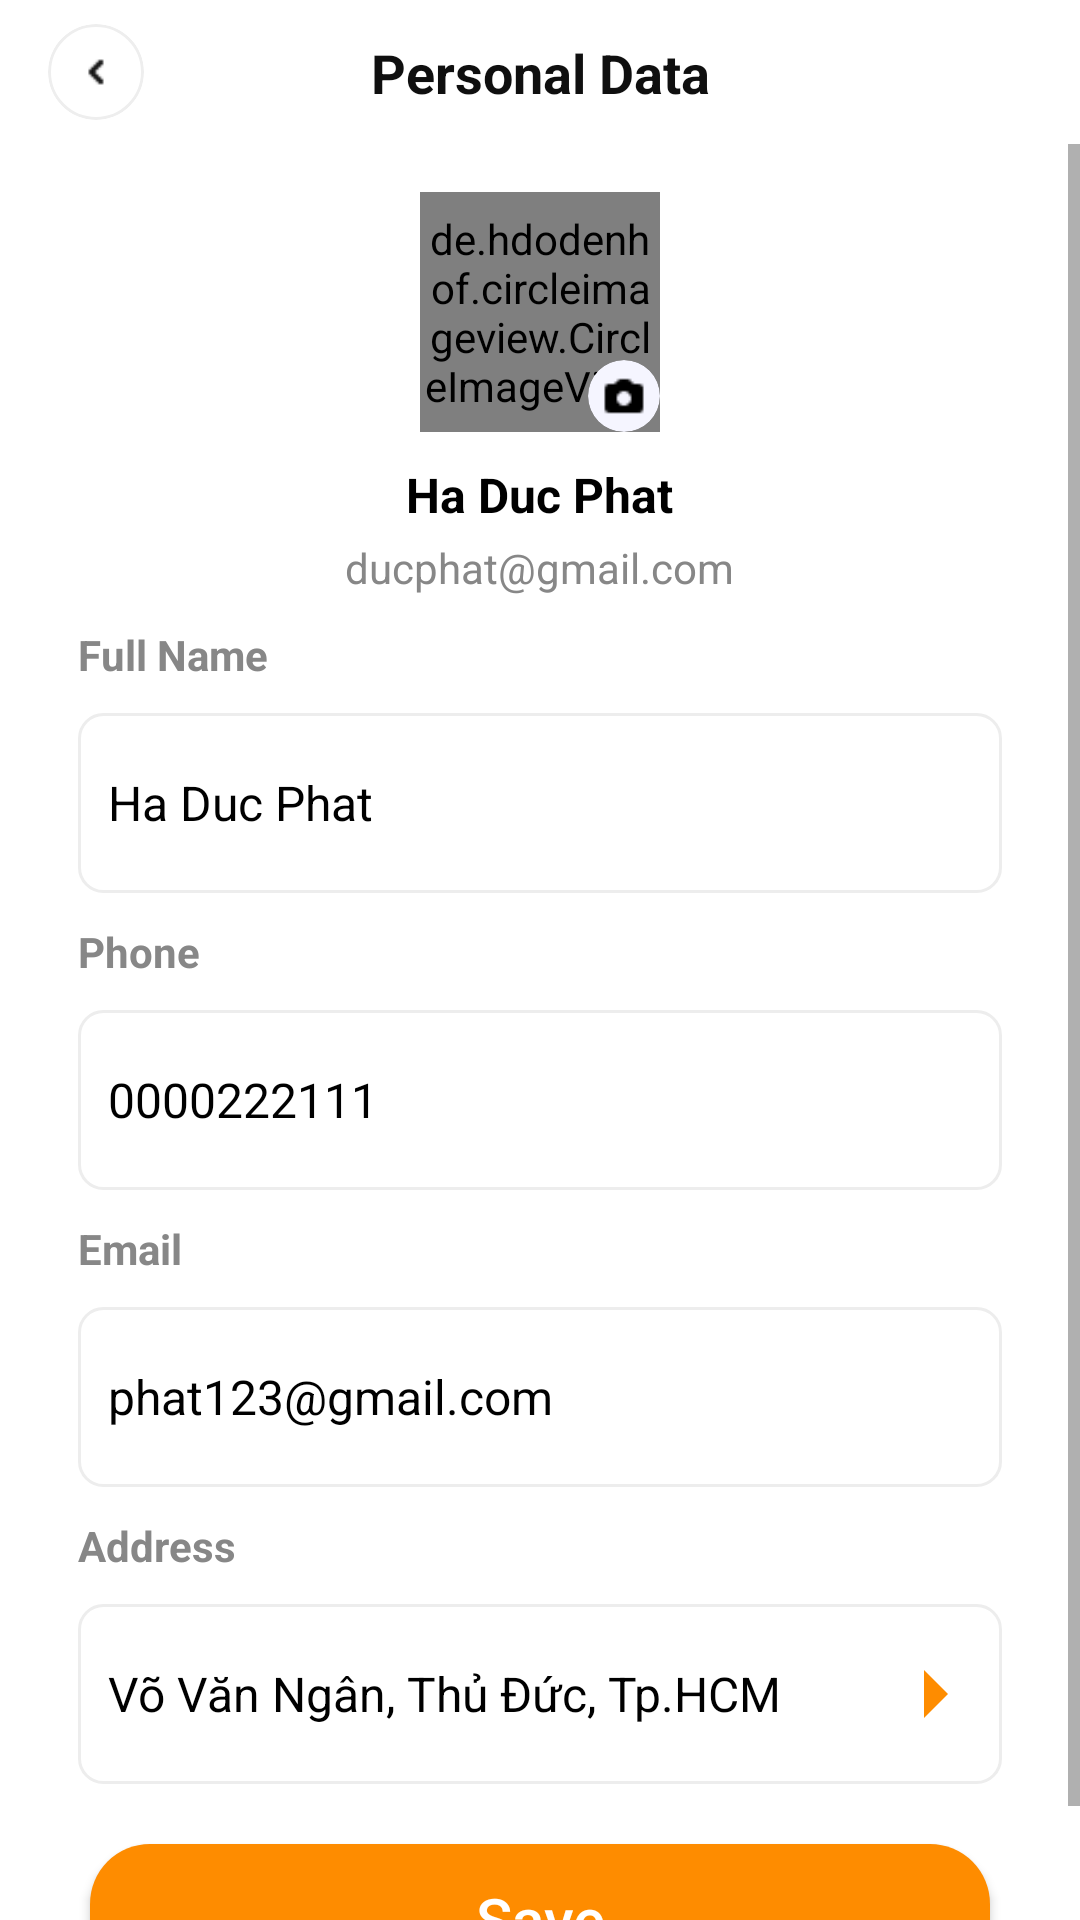

Where icons sit on this 1080w x 1920h app screen, as (x1, y1, x2, y2):
back: (88, 59, 104, 85)
